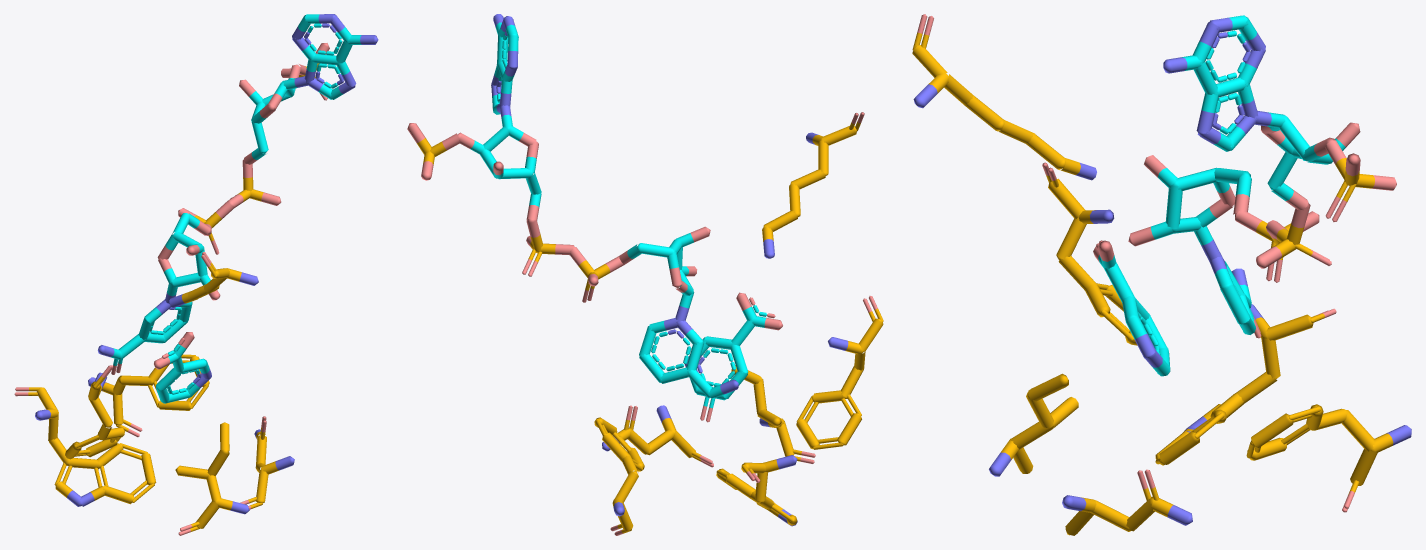
The model's file is NIO_AS_A119.gltf.
3 views of the same model, side by side, from view 1: azimuth 30°, elevation 25°; view 2: azimuth 150°, elevation 25°; view 3: azimuth 270°, elevation 25° (orthographic). The views are drawn at different scales.
Visible parts, largest first — view 1: no part large enough to name; view 2: no part large enough to name; view 3: node-geom193, node-geom233, node-geom89, node-geom215, node-geom188, node-geom163, node-geom127, node-geom186, node-geom162, node-geom219, node-geom259.
Boxes of the visible parts, x1,y1,x2,y2 form: node-geom193: (1265, 314, 1313, 340); node-geom233: (1251, 413, 1293, 447); node-geom89: (1165, 181, 1182, 228); node-geom215: (1159, 431, 1199, 464); node-geom188: (1026, 133, 1065, 169); node-geom163: (1056, 217, 1086, 260); node-geom127: (1220, 283, 1250, 324); node-geom186: (964, 96, 1004, 131); node-geom162: (1048, 178, 1085, 218); node-geom219: (1342, 410, 1375, 451); node-geom259: (1028, 373, 1068, 401).
Size of the model in its own units: 19.67 by 23.43 by 17.53.
